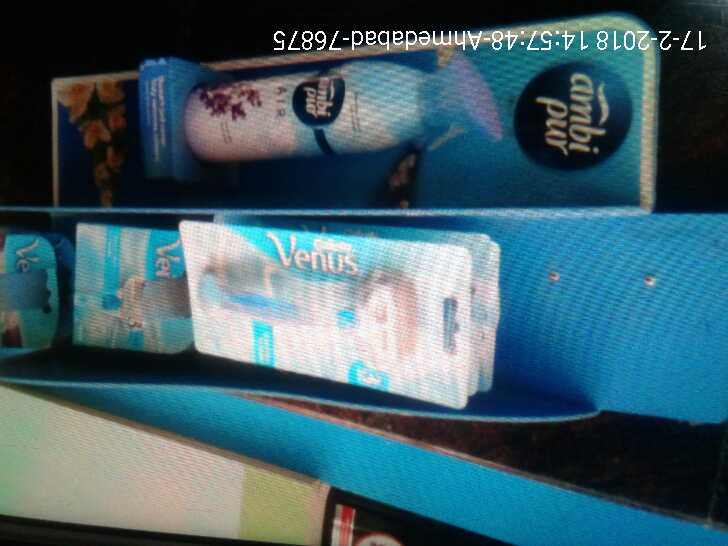beauty: (183, 224, 484, 402)
home: (174, 45, 516, 171)
